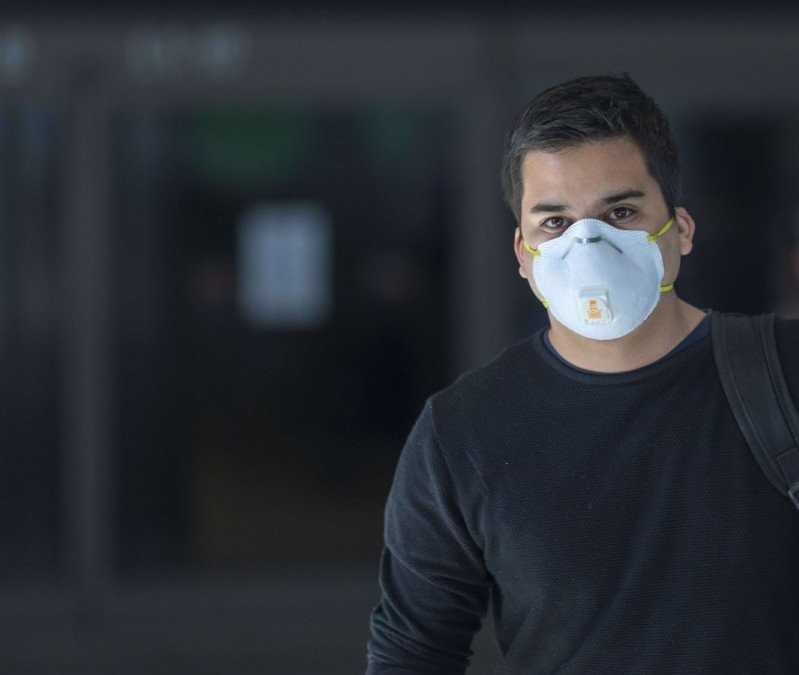with_mask: (503, 145, 698, 352)
